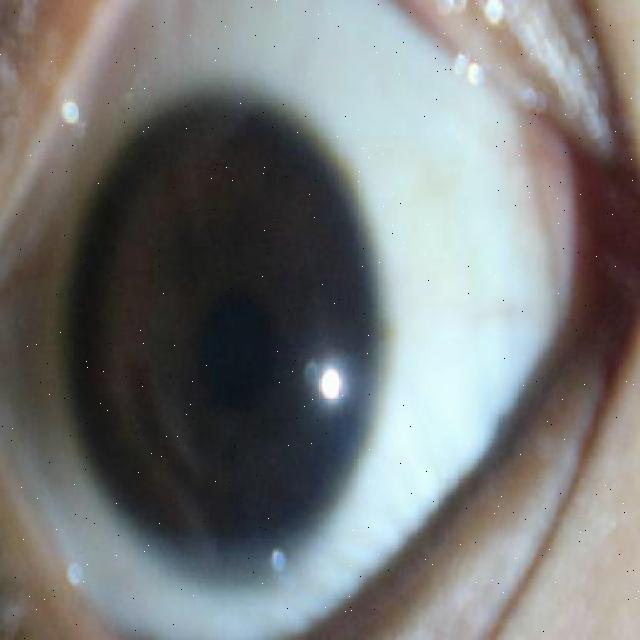Normal: (68, 97, 390, 561)
